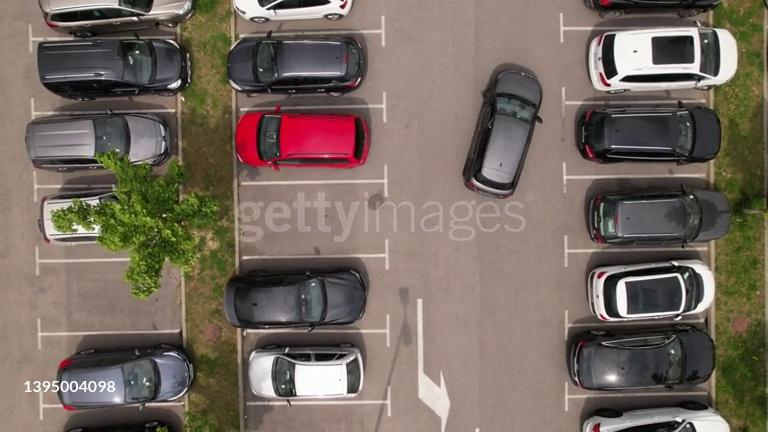car: (56, 347, 190, 408), (578, 106, 718, 163), (25, 112, 165, 169), (588, 258, 715, 319), (242, 110, 367, 171), (230, 36, 362, 93), (588, 187, 721, 243), (229, 271, 364, 326), (573, 331, 695, 390), (251, 347, 362, 399), (40, 1, 190, 33), (584, 403, 729, 432), (40, 191, 116, 242), (586, 0, 721, 17), (67, 419, 173, 431)
